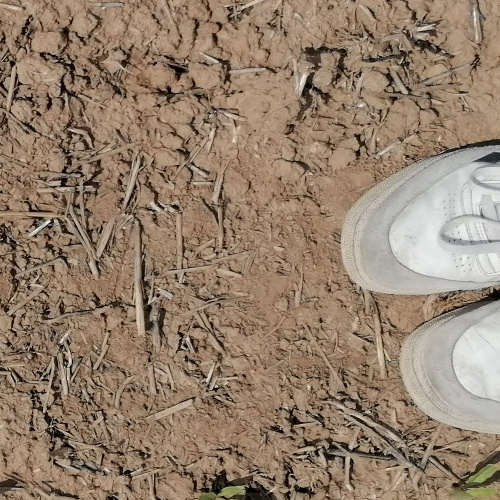beet: (456, 461, 500, 500), (204, 483, 246, 500)
